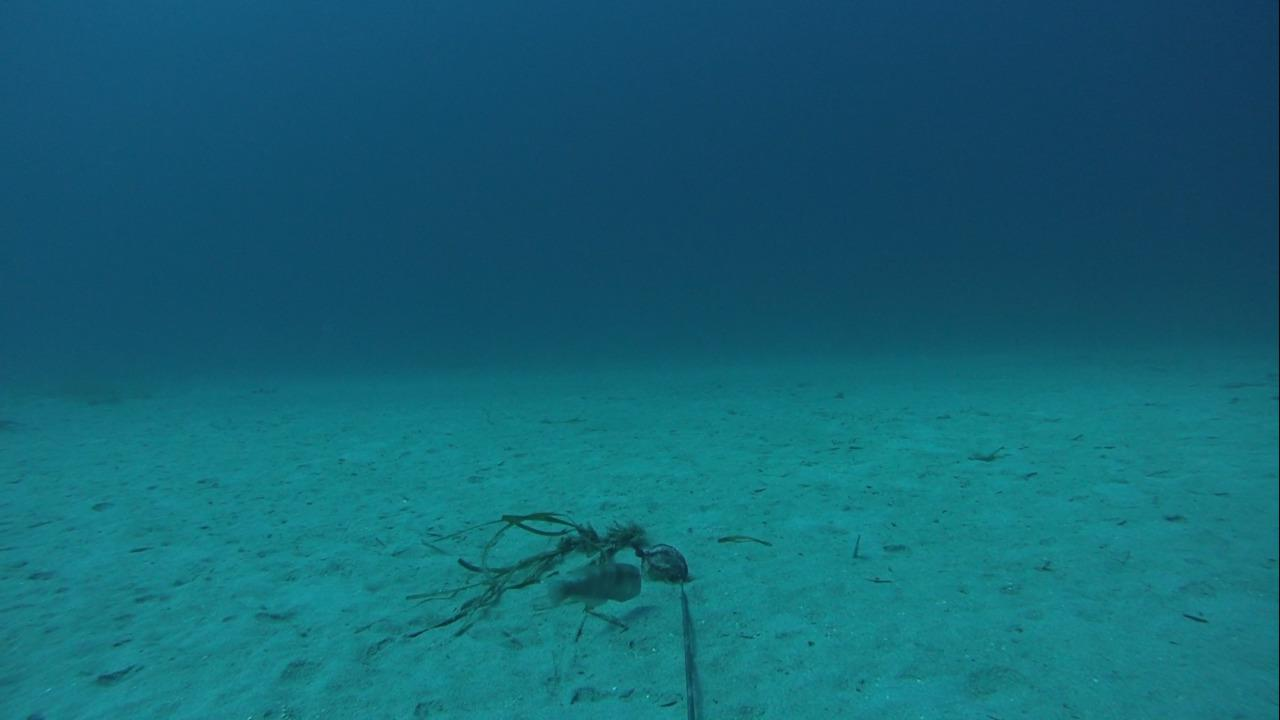raor: (539, 556, 645, 610)
